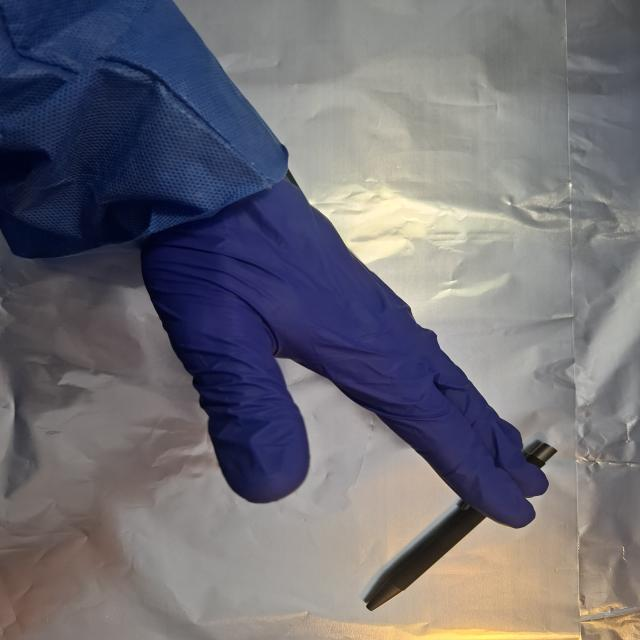glove_on: (136, 169, 553, 532)
